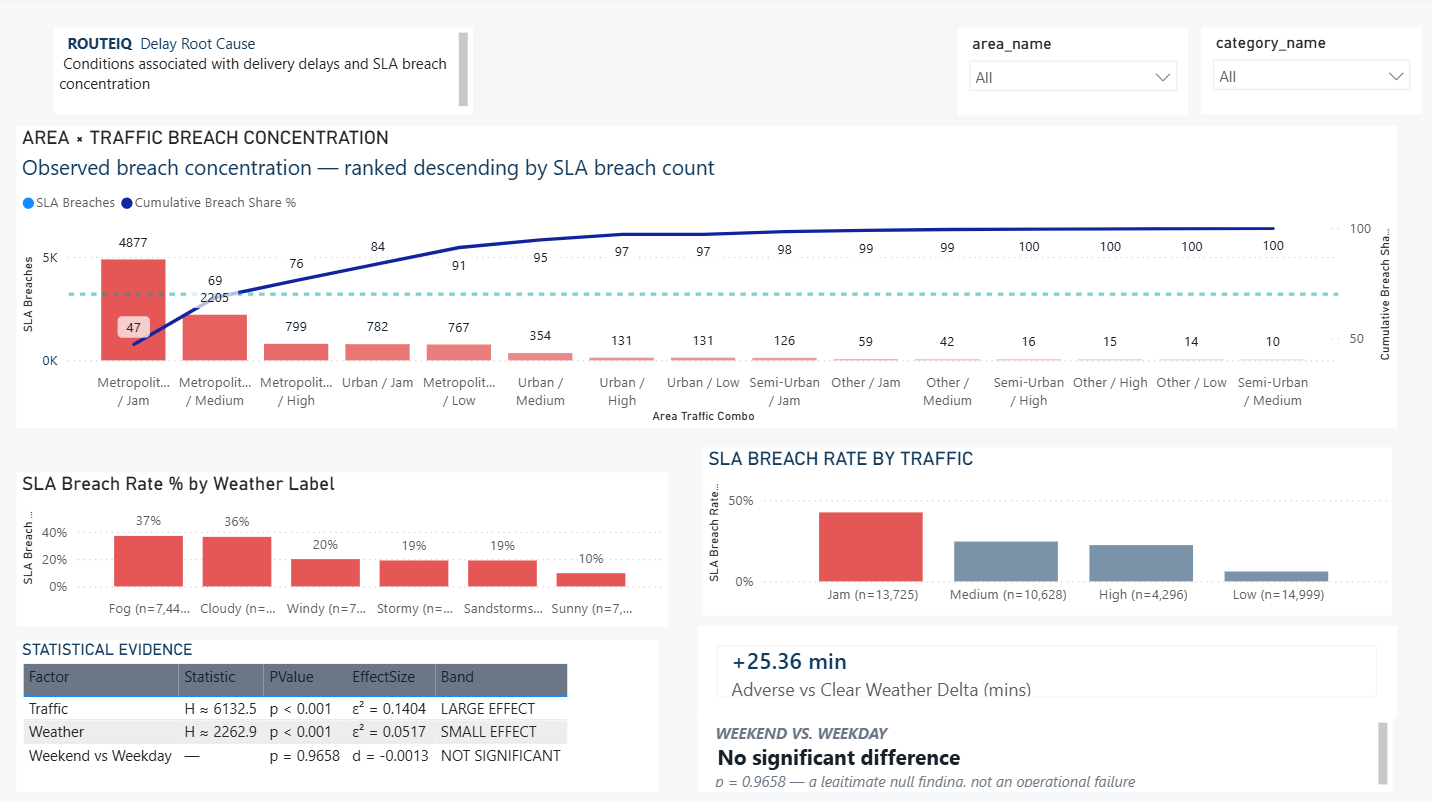

What the dashboard file says about the page in this screenshot:
{"tool":"powerbi","page":{"name":"Delay Root Cause","canvas":[1280,720],"ordinal":3},"visuals":[{"type":"textbox","box":[48.8,27.9,374.4,77.9],"z":0},{"type":"slicer","fields":{"Values":["DimArea.area_name"]},"box":[857,29.1,205.8,77.9],"z":1000},{"type":"slicer","fields":{"Values":["DimCategory.category_name"]},"box":[1074.4,27.9,196.5,77.9],"z":2000},{"type":"lineStackedColumnComboChart","title":"AREA × TRAFFIC BREACH CONCENTRATION","fields":{"Category":["FactDelivery.Area Traffic Combo"],"Y":["FactDelivery.SLA Breaches"],"Y2":["FactDelivery.Cumulative Breach Share %"]},"box":[15.1,116.3,1233.7,269.8],"z":3000},{"type":"clusteredColumnChart","fields":{"Category":["DimWeatherTraffic.Weather Label"],"Y":["FactDelivery.SLA Breach Rate %"]},"box":[15.1,425.6,582.6,137.2],"z":4000},{"type":"clusteredColumnChart","title":"SLA BREACH RATE BY TRAFFIC","fields":{"Category":["DimWeatherTraffic.Traffic Label"],"Y":["FactDelivery.SLA Breach Rate %"]},"box":[629.1,403.5,616.3,150],"z":5000},{"type":"tableEx","title":"STATISTICAL EVIDENCE","fields":{"Values":["StatisticalEvidence.Factor","StatisticalEvidence.Statistic","StatisticalEvidence.PValue","StatisticalEvidence.EffectSize","StatisticalEvidence.Band"]},"box":[15.1,575.6,573.3,136],"z":6000},{"type":"cardVisual","fields":{"Data":["FactDelivery.Adverse vs Clear Weather Delta (mins)"]},"box":[624.4,562.8,624.4,81.4],"z":7000},{"type":"textbox","box":[624.4,644.2,620.9,67.4],"z":8000}]}

Visuals, with their boxes in screenshot pixels (x1, y1, x2, y2), scaled from the page's 1280x720 canvas onto the 1432x802 screenshot:
textbox: [55, 31, 473, 118]
slicer - DimArea.area_name: [959, 32, 1189, 119]
slicer - DimCategory.category_name: [1202, 31, 1422, 118]
"AREA × TRAFFIC BREACH CONCENTRATION" lineStackedColumnComboChart: [17, 130, 1397, 430]
clusteredColumnChart - DimWeatherTraffic.Weather Label x FactDelivery.SLA Breach Rate %: [17, 474, 669, 627]
"SLA BREACH RATE BY TRAFFIC" clusteredColumnChart: [704, 449, 1393, 617]
"STATISTICAL EVIDENCE" tableEx: [17, 641, 658, 793]
cardVisual - FactDelivery.Adverse vs Clear Weather Delta (mins): [699, 627, 1397, 718]
textbox: [699, 718, 1393, 793]
